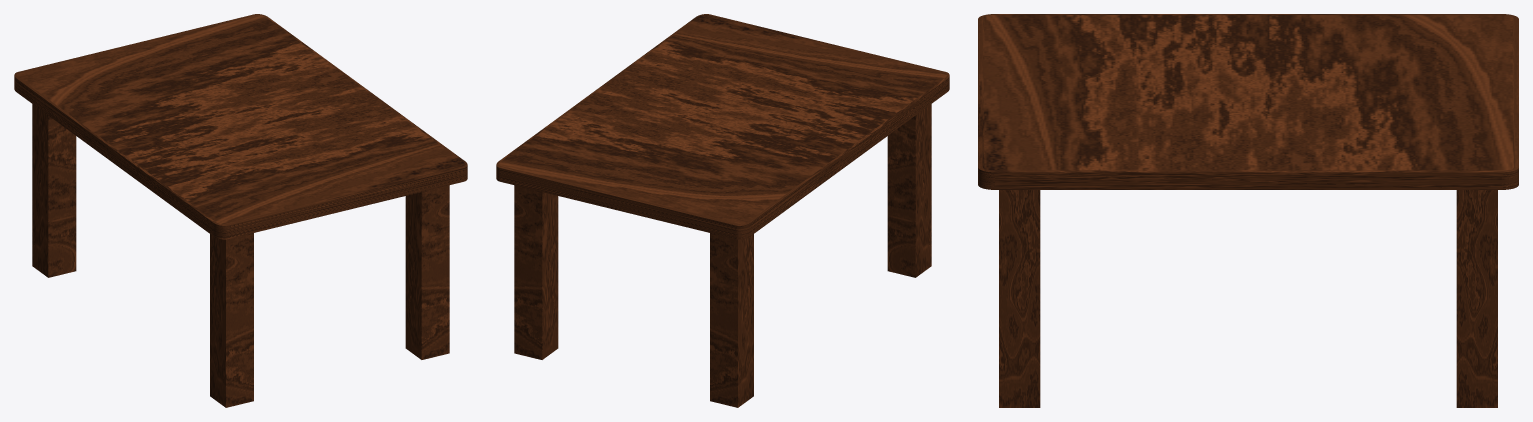
The model's file is table.glb.
3 renders of one model, left to right at view 1: azimuth 30°, elevation 25°; view 2: azimuth 150°, elevation 25°; view 3: azimuth 270°, elevation 25°, orthographic. The views are drawn at different scales.
Visible parts, largest first — view 1: Base, Legs; view 2: Base, Legs; view 3: Base, Legs.
Part boxes in pixels (x1,y1,x2,y2): Base: (14,14,467,239); Legs: (32,104,449,407); Base: (496,14,949,239); Legs: (514,104,931,407); Base: (978,14,1518,189); Legs: (999,190,1497,407).
Size of the model in its own units: 9 by 6.5 by 13.
1 material, 1 textured.
